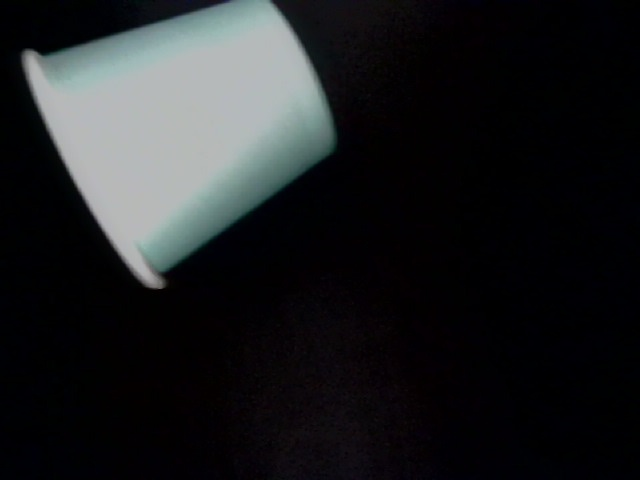CYLJ: (238, 307, 364, 414)
